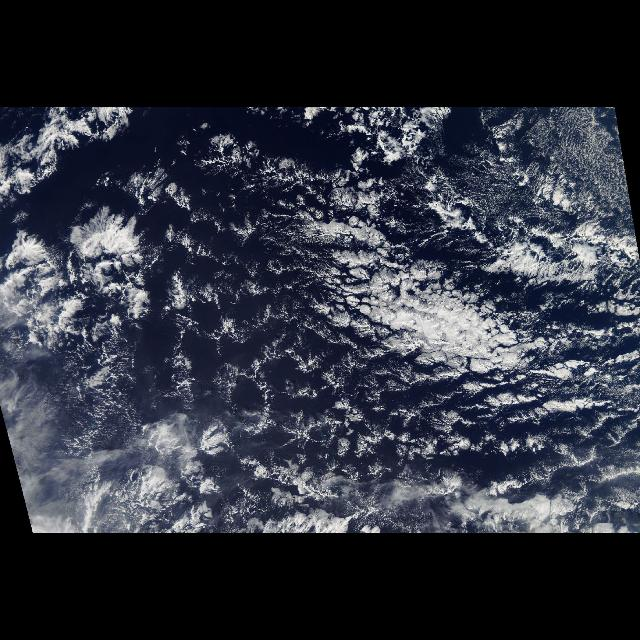Flower: (0, 110, 234, 356), (338, 150, 544, 338), (332, 349, 634, 468), (29, 397, 241, 511)
Gravel: (100, 171, 640, 475)
Sugar: (478, 109, 636, 229)
